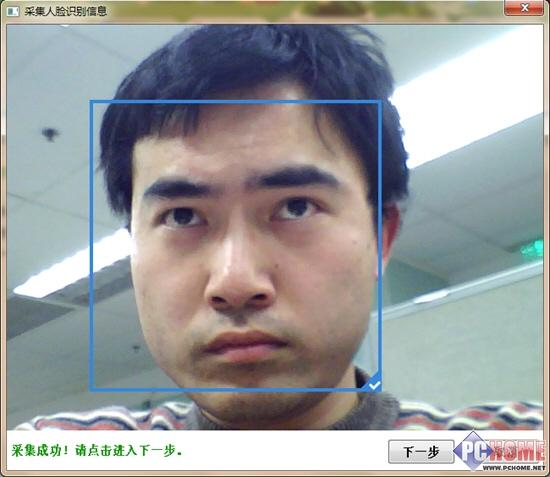nomask: (113, 110, 376, 390)
